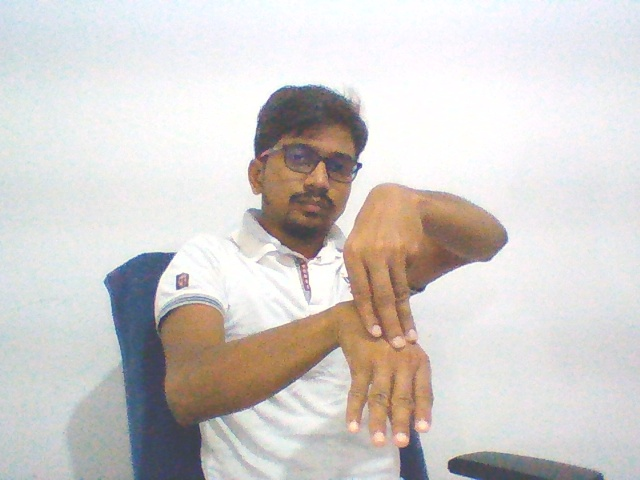papaya: (329, 176, 446, 455)
